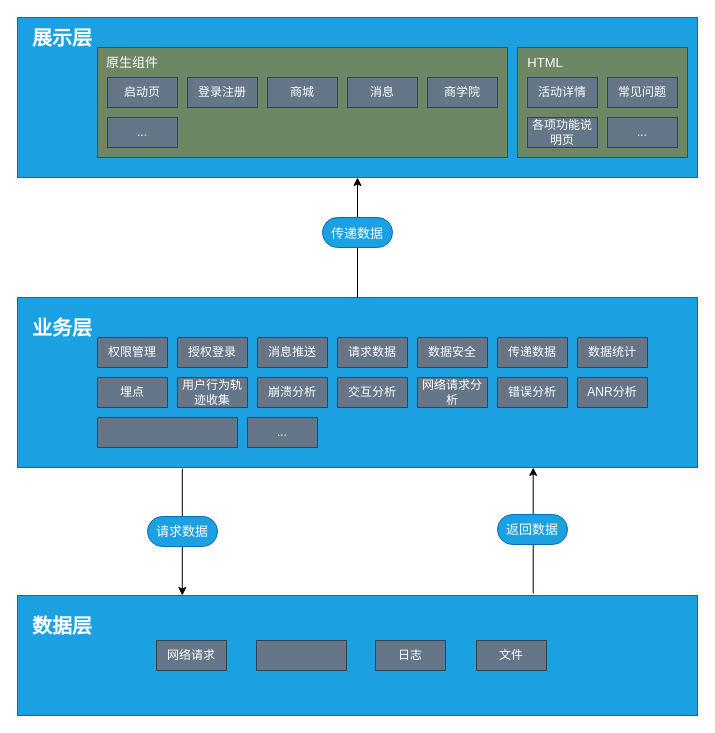
Image size: 715x733. Some labels were removed from this diagram. The shapes that lost their labels are listed below. From the top down, each one's centre as x and y in pixels, then its label:
At pixel 167 432: "多维度（地域、运营商、接入方式）组合分析".
At pixel 301 655: "数据加密缓存".
